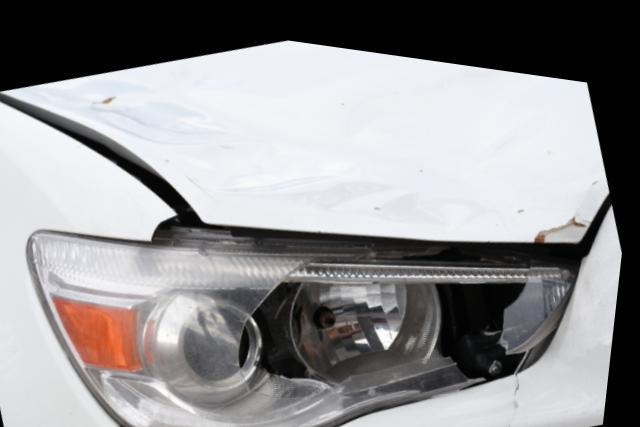crack: (491, 358, 528, 427)
dent: (28, 69, 475, 217)
lamp broken: (33, 222, 584, 427)
